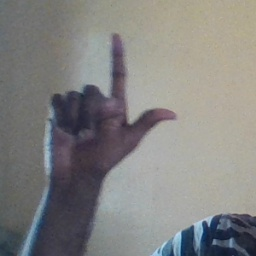L: (42, 34, 180, 182)
